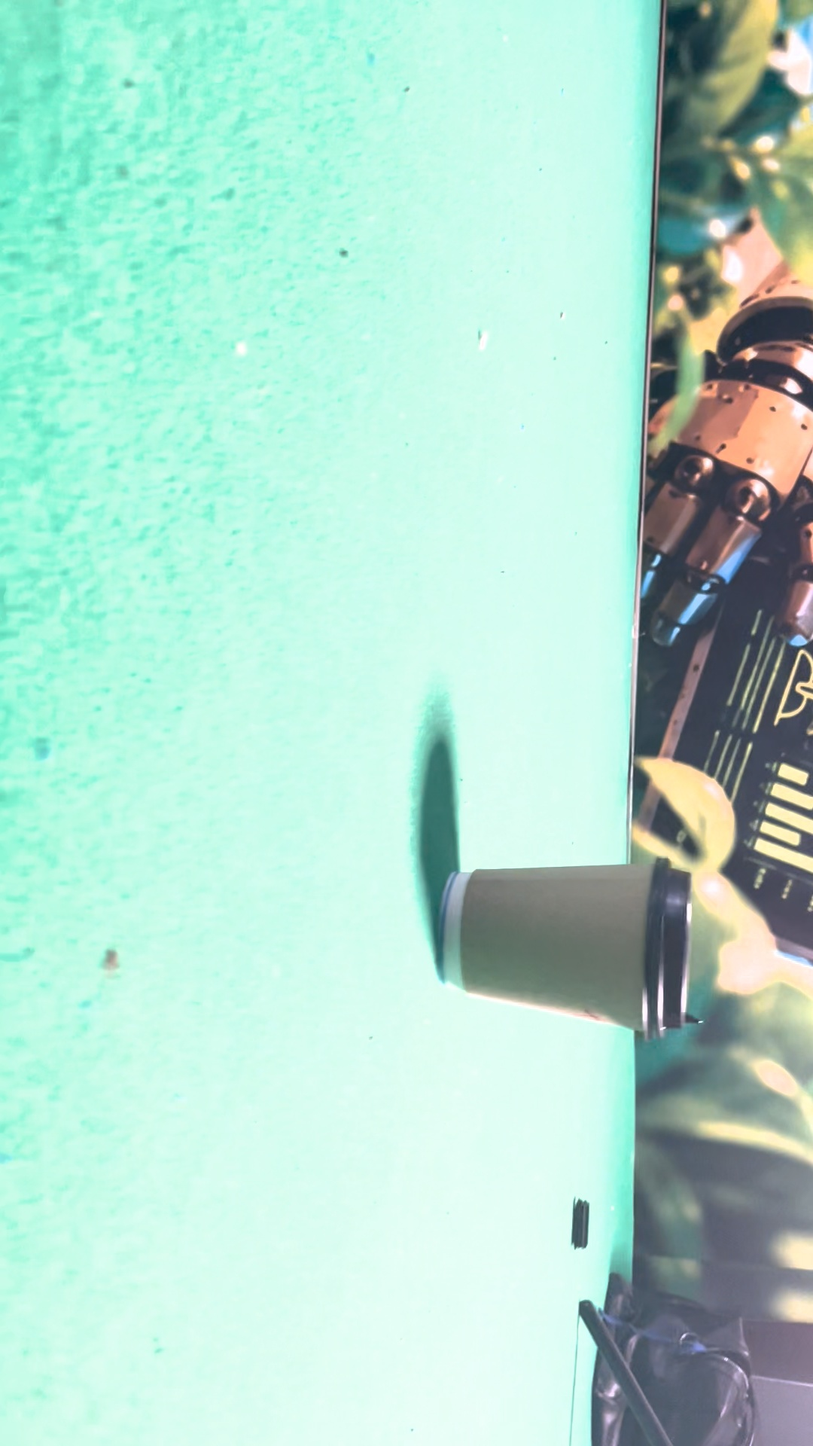cup: (405, 667, 481, 1035)
